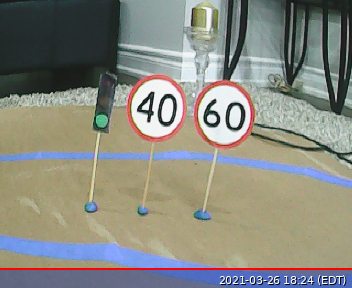Green Traffic Light: (91, 70, 118, 134)
Speed Limit 40: (127, 73, 187, 141)
Speed Limit 60: (193, 80, 256, 149)
